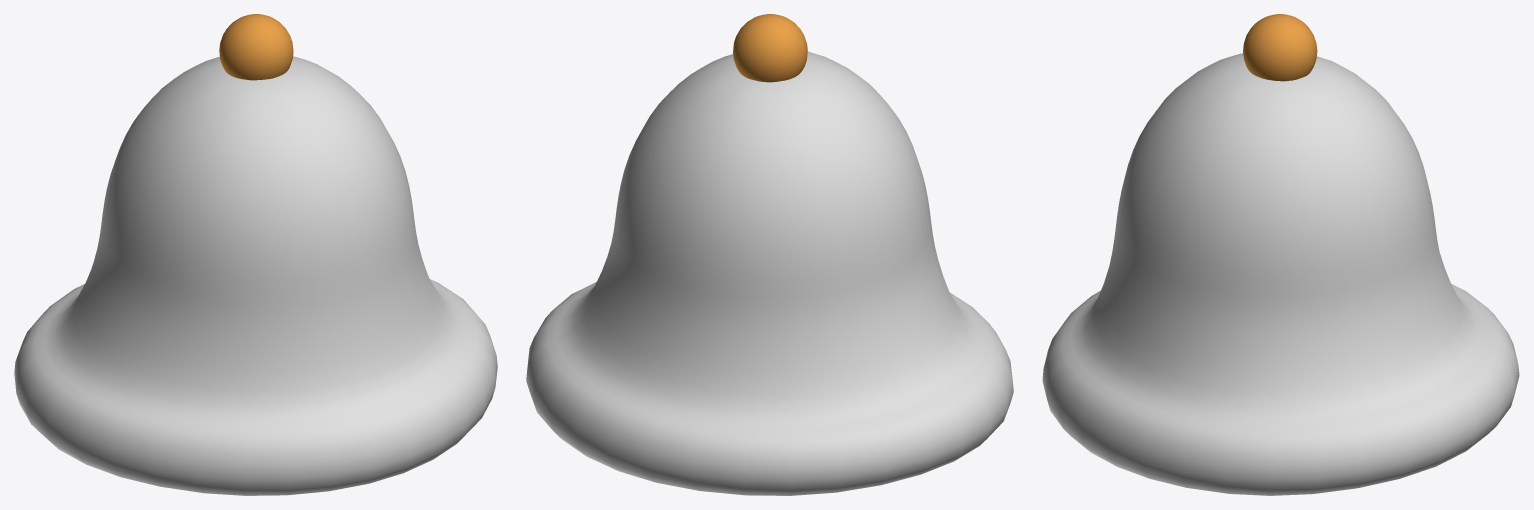
The model's file is bell (1).fbx.
The picture shows the model from 3 angles, left to right: view 1: azimuth 30°, elevation 25°; view 2: azimuth 150°, elevation 25°; view 3: azimuth 270°, elevation 25°; orthographic projection.
Visible parts, largest first — view 1: base, top; view 2: base, top; view 3: base, top.
Boxes of the visible parts, bbox=[...] form: base: bbox=[14, 56, 497, 495]; top: bbox=[219, 14, 293, 80]; base: bbox=[526, 51, 1013, 495]; top: bbox=[733, 14, 807, 82]; base: bbox=[1042, 53, 1519, 495]; top: bbox=[1243, 14, 1317, 81].
Size of the model in its own units: 295 by 302 by 286.
